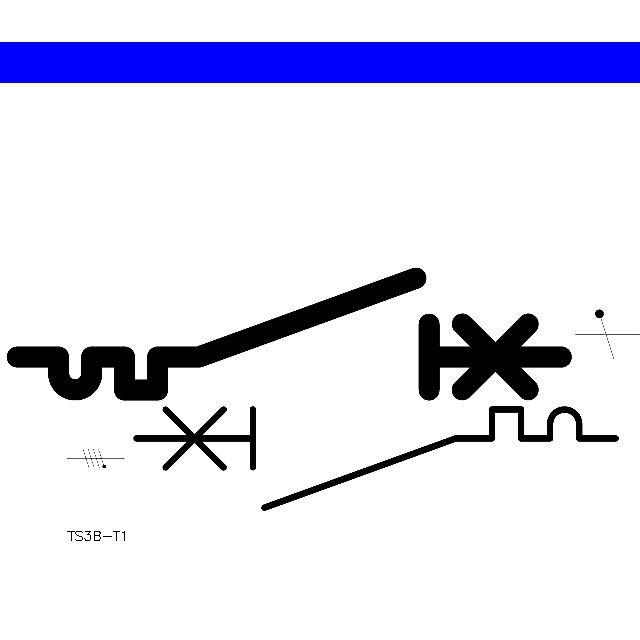interruptor_termomagnetico: (3, 264, 575, 404), (123, 397, 627, 520)
